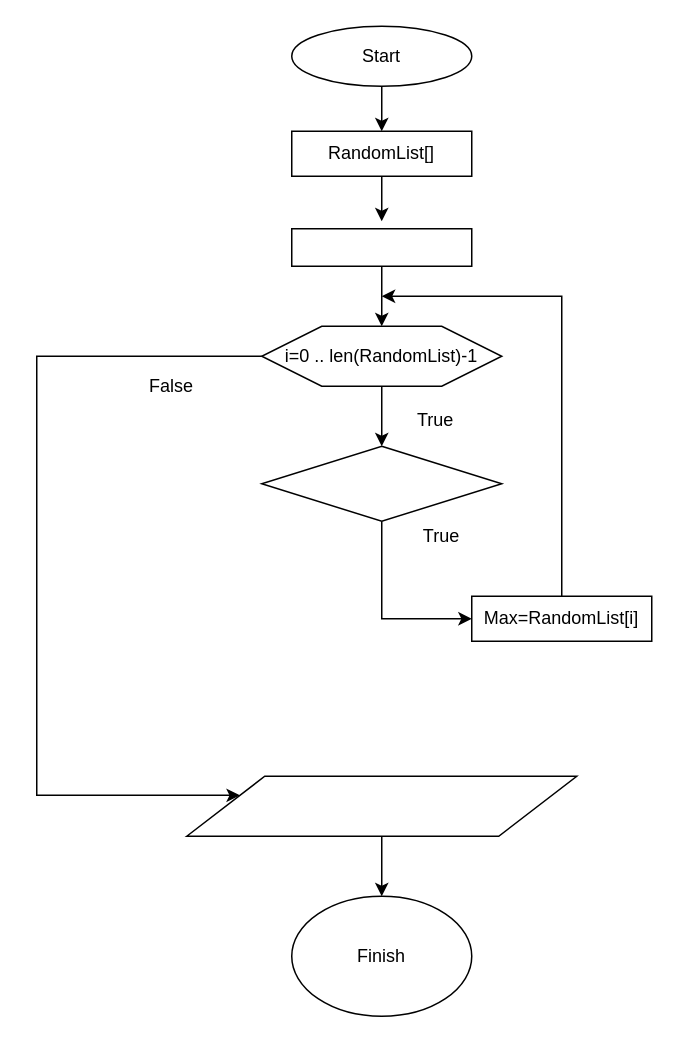
Some shapes in this 678 by 1043 pixel diagram are drawn without their labels. Here are the shapes that lost their labels. From the top down, the centre of each, then its label:
At point (381, 246): "Max=RandomList[0]".
At point (381, 483): "Max<RandomList[i]".
At point (381, 805): "Print(str(Max))".
